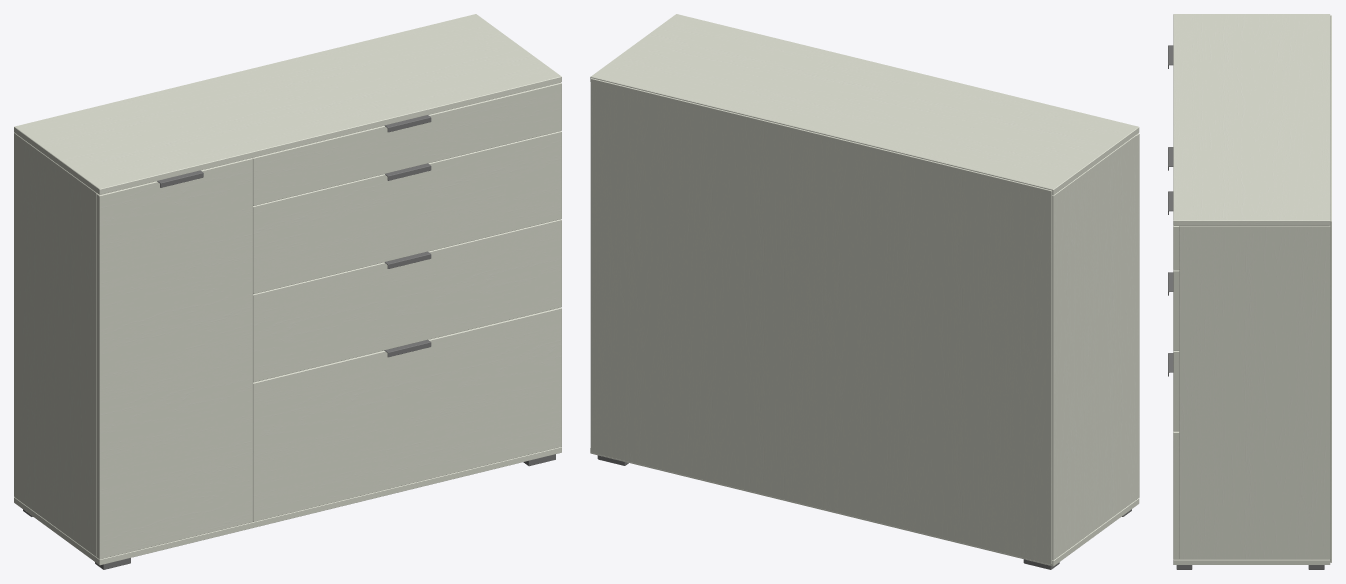
3 renders of one model, left to right at view 1: azimuth 30°, elevation 25°; view 2: azimuth 150°, elevation 25°; view 3: azimuth 270°, elevation 25°, orthographic. The views are drawn at different scales.
Parts seen in each view (by area): view 1: wood_korpus_hoff; view 2: wood_korpus_hoff; view 3: wood_korpus_hoff.
Part boxes in pixels (x1,y1,x2,y2): wood_korpus_hoff: (14, 14, 561, 569); wood_korpus_hoff: (590, 14, 1139, 569); wood_korpus_hoff: (1168, 14, 1331, 569).
Size of the model in its own units: 120 by 94.93 by 40.14.
2 materials, 1 textured.
